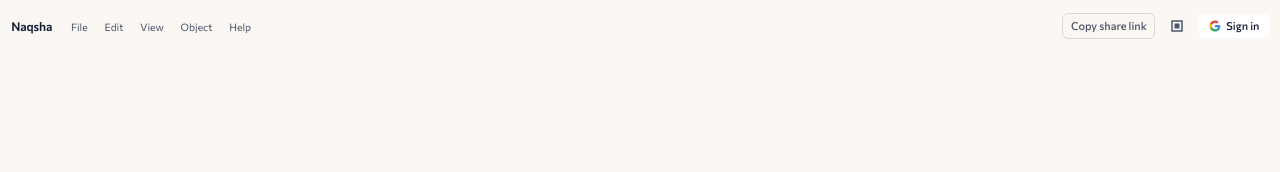
Test: MenuBar (B5 — top menu bar structure) › Edit menu exposes Undo and Redo
Click the button "Edit" at [114, 28], box [97, 19, 131, 37]
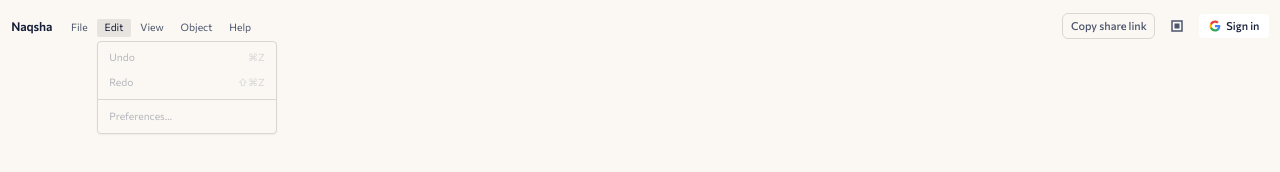
Check: the menu item "Undo ⌘Z" is shown, box [98, 45, 276, 71]
Check: the menu item "Redo ⇧⌘Z" is shown, box [98, 71, 276, 96]
